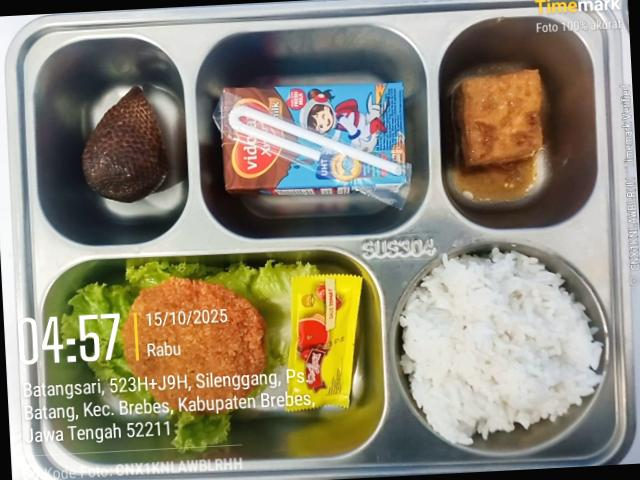ayam: (123, 277, 266, 412)
buah: (82, 87, 167, 202)
nasi: (400, 248, 601, 445)
sayur: (61, 261, 320, 372), (172, 411, 231, 452), (89, 339, 134, 382)
susu: (214, 82, 411, 208)
tahu: (456, 70, 541, 167)
